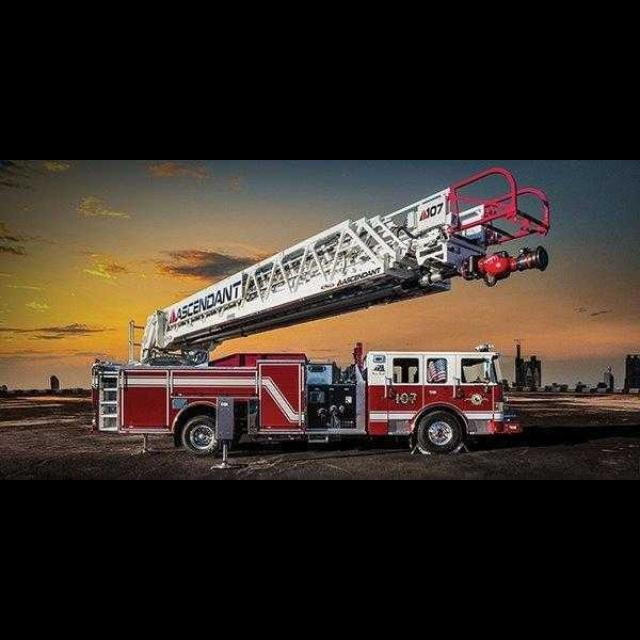emergency: (90, 167, 550, 456)
